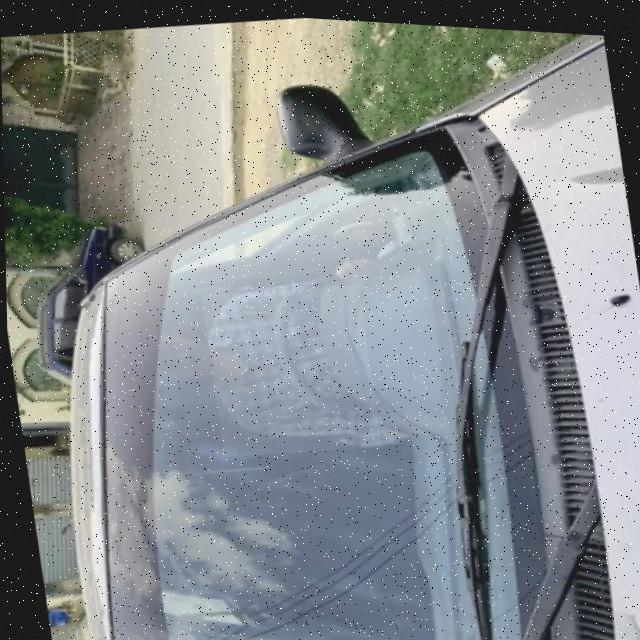no-seatbelt: (198, 273, 379, 461)
